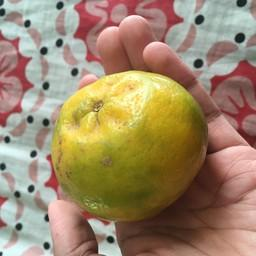Good_orange: (51, 79, 214, 224)
